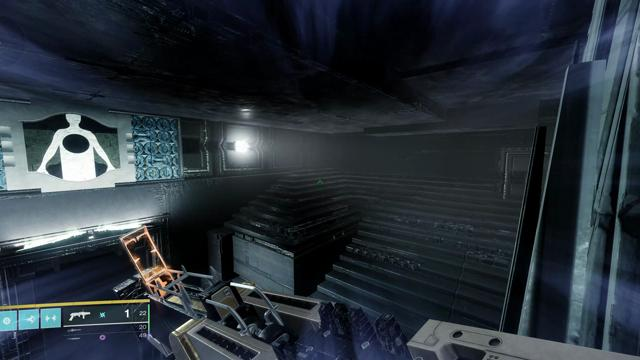grief: (23, 113, 121, 182)
